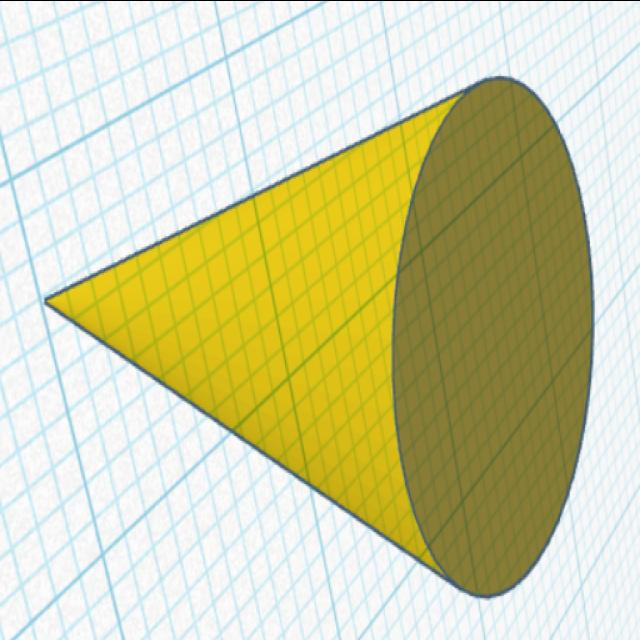cone: (37, 69, 600, 606)
